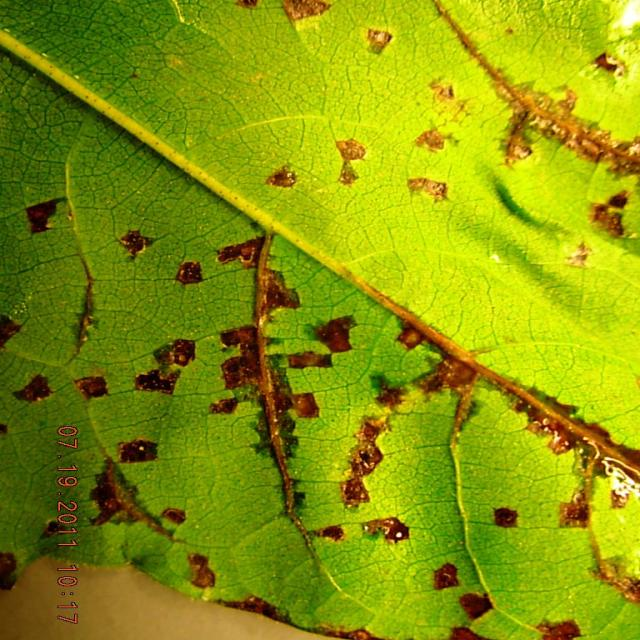Bacterial Blight: (13, 190, 640, 602)
